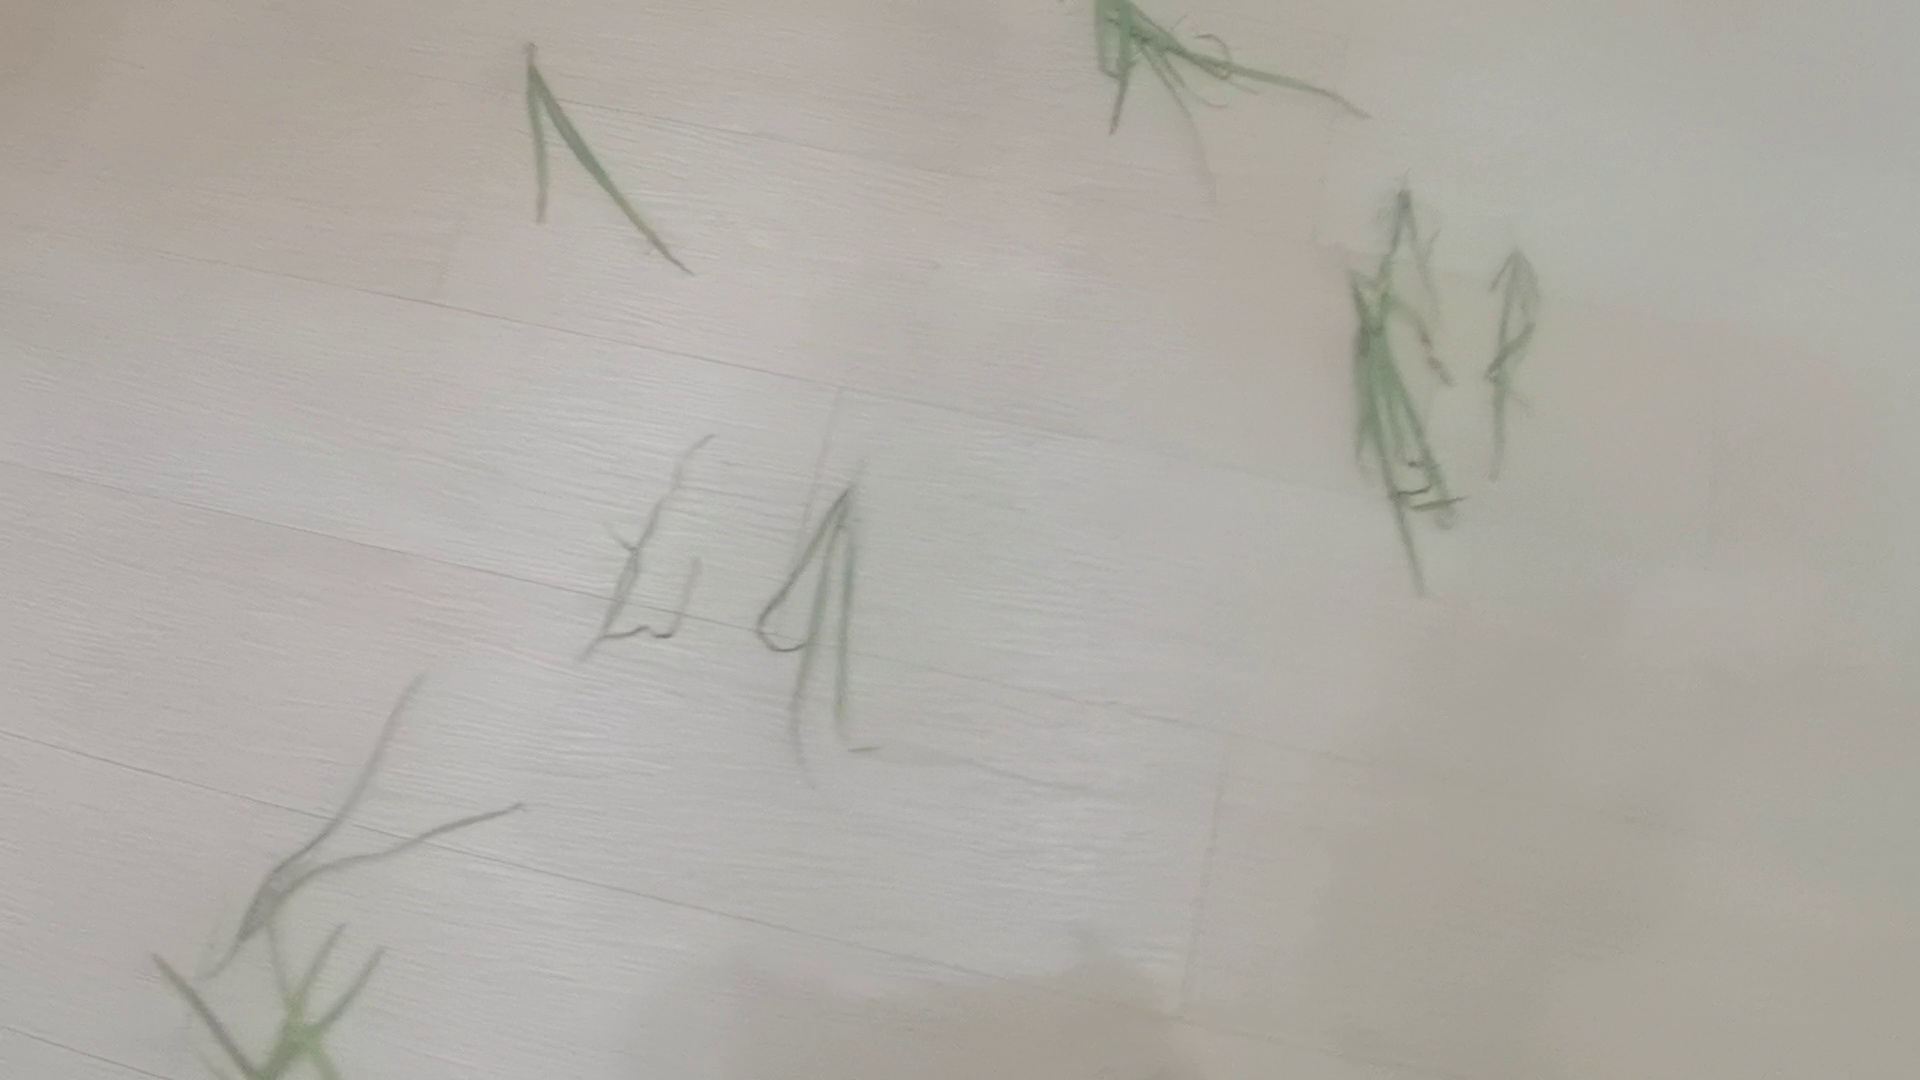chives: (1262, 169, 1598, 549), (465, 33, 724, 324), (712, 465, 957, 723), (971, 1, 1404, 111)
